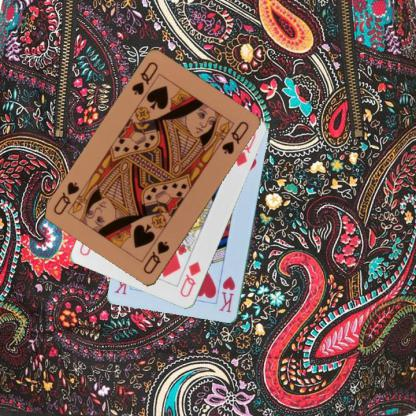Kh: (216, 274, 237, 314)
Qd: (178, 259, 202, 299)
Qs: (140, 239, 171, 276), (129, 59, 159, 97)
